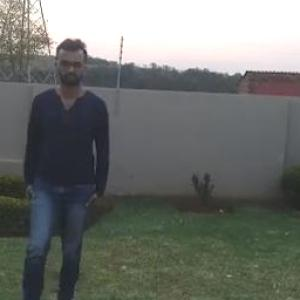follow: (31, 30, 117, 299)
